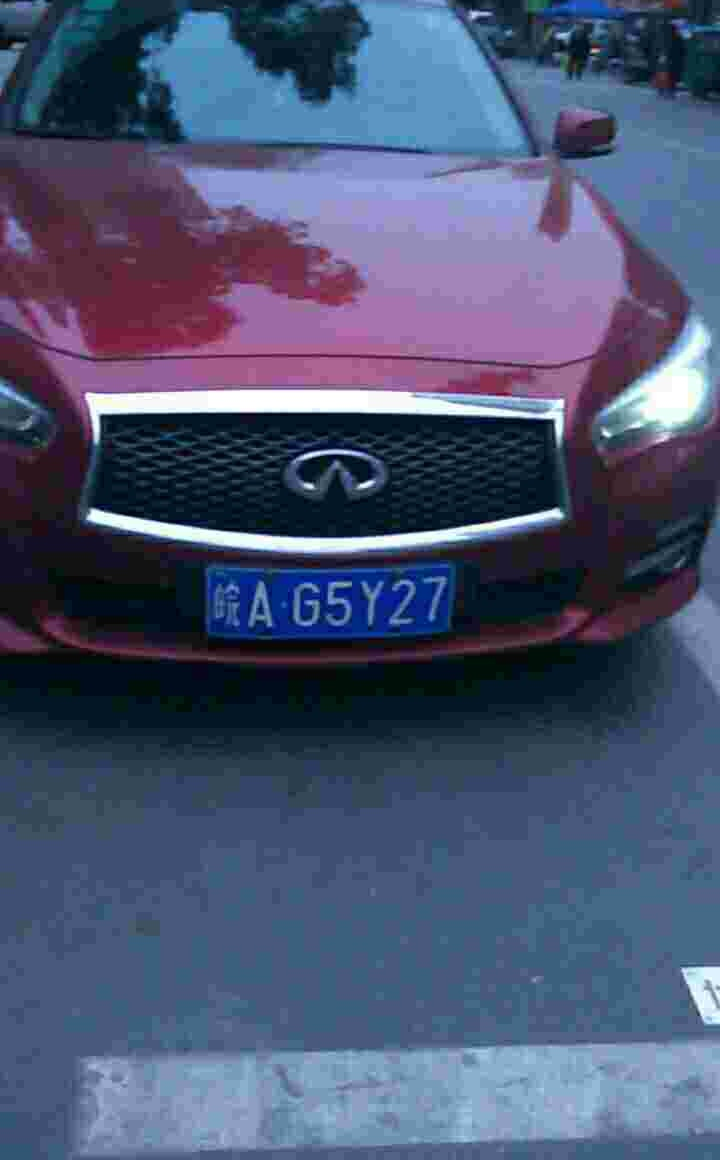license_plate: (197, 565, 475, 646)
